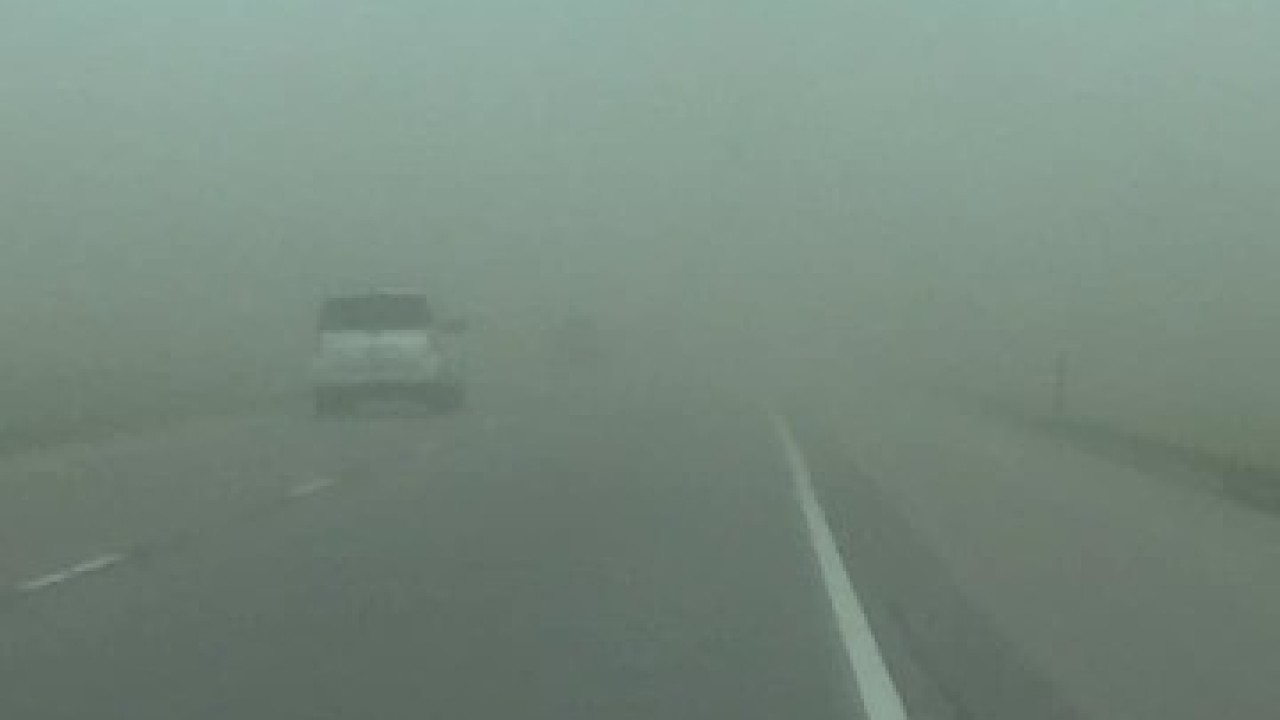car: (307, 286, 469, 410)
